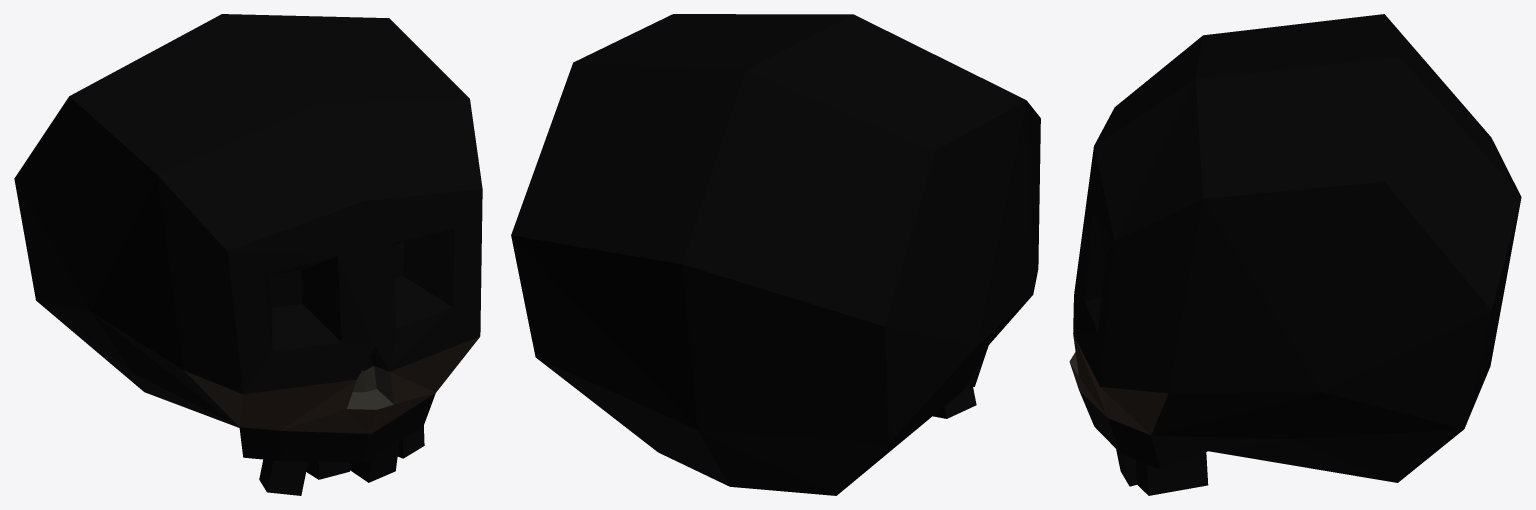
Rendered from synty-prop-skull-01.gltf.
3 renders of one model, left to right at view 1: azimuth 30°, elevation 25°; view 2: azimuth 150°, elevation 25°; view 3: azimuth 270°, elevation 25°, orthographic. The views are drawn at different scales.
Visible parts, largest first — view 1: SM_Prop_Skull_01; view 2: SM_Prop_Skull_01; view 3: SM_Prop_Skull_01.
Boxes of the visible parts, x1,y1,x2,y2 form: SM_Prop_Skull_01: [14, 14, 482, 495]; SM_Prop_Skull_01: [511, 14, 1040, 495]; SM_Prop_Skull_01: [1069, 14, 1521, 495].
Bounding box in the file's own units: 0.2331 × 0.2506 × 0.2533.
1 material, 1 textured.
